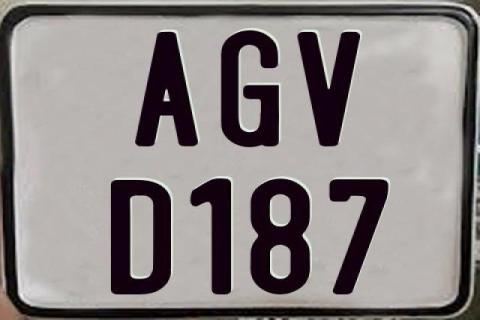0: (250, 176, 314, 297), (329, 177, 390, 295), (189, 176, 236, 292)
A: (133, 32, 197, 150)
D: (108, 180, 172, 296)
G: (221, 31, 279, 150)
V: (297, 29, 365, 149)
